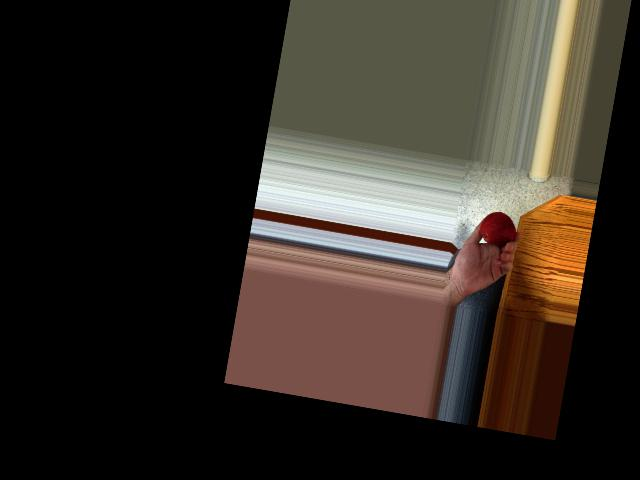apple: (478, 207, 517, 248)
